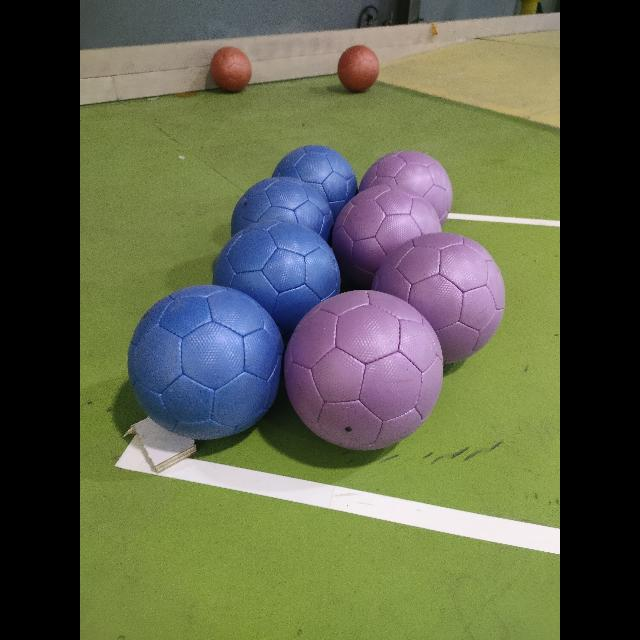B: (128, 285, 282, 439), (220, 222, 344, 331), (227, 176, 337, 256), (273, 145, 357, 219)
P: (285, 290, 443, 450), (378, 233, 502, 363), (336, 185, 448, 285), (360, 150, 452, 224)
R: (210, 46, 252, 92), (338, 45, 378, 91)
